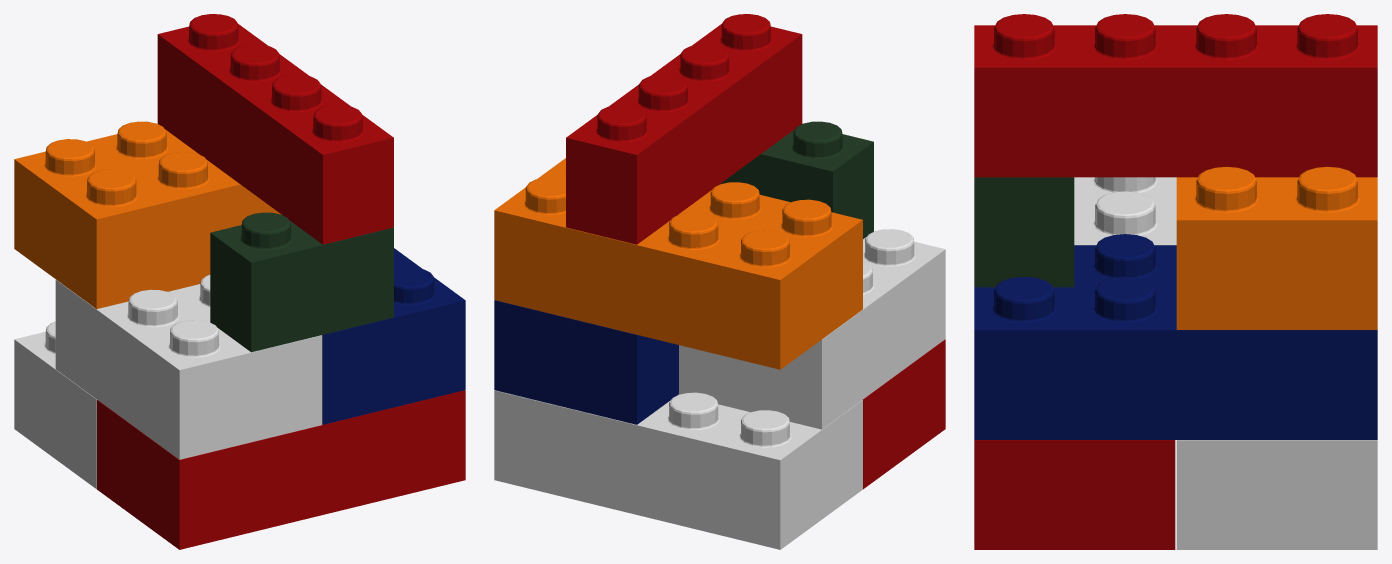
File: mod2.dae
3 views of the same model, side by side, from view 1: azimuth 30°, elevation 25°; view 2: azimuth 150°, elevation 25°; view 3: azimuth 270°, elevation 25° (orthographic). The views are drawn at different scales.
Visible parts, largest first — view 1: Part.1, Part.6, Part.4, Part.3, Part.5, Part.2, Part.0; view 2: Part.4, Part.0, Part.6, Part.3, Part.2, Part.5, Part.1; view 3: Part.6, Part.2, Part.4, Part.0, Part.1, Part.5, Part.3.
Part boxes in pixels (x1,y1,x2,y2): Part.1: (97,390,465,549); Part.6: (157,14,393,244); Part.4: (14,121,281,308); Part.3: (55,274,322,459); Part.5: (210,212,393,352); Part.2: (322,248,465,424); Part.0: (14,321,96,489); Part.4: (494,158,862,369); Part.0: (494,390,862,549); Part.6: (566,14,802,244); Part.3: (679,229,945,429); Part.2: (494,300,678,424); Part.5: (719,121,873,238); Part.1: (863,339,945,489); Part.6: (974,14,1377,177); Part.2: (974,234,1377,439); Part.4: (1176,166,1377,329); Part.0: (1176,440,1377,549); Part.1: (974,440,1175,549); Part.5: (974,177,1074,287); Part.3: (1074,177,1176,245).
Size of the model in its own units: 31.92 by 40.18 by 31.92.
